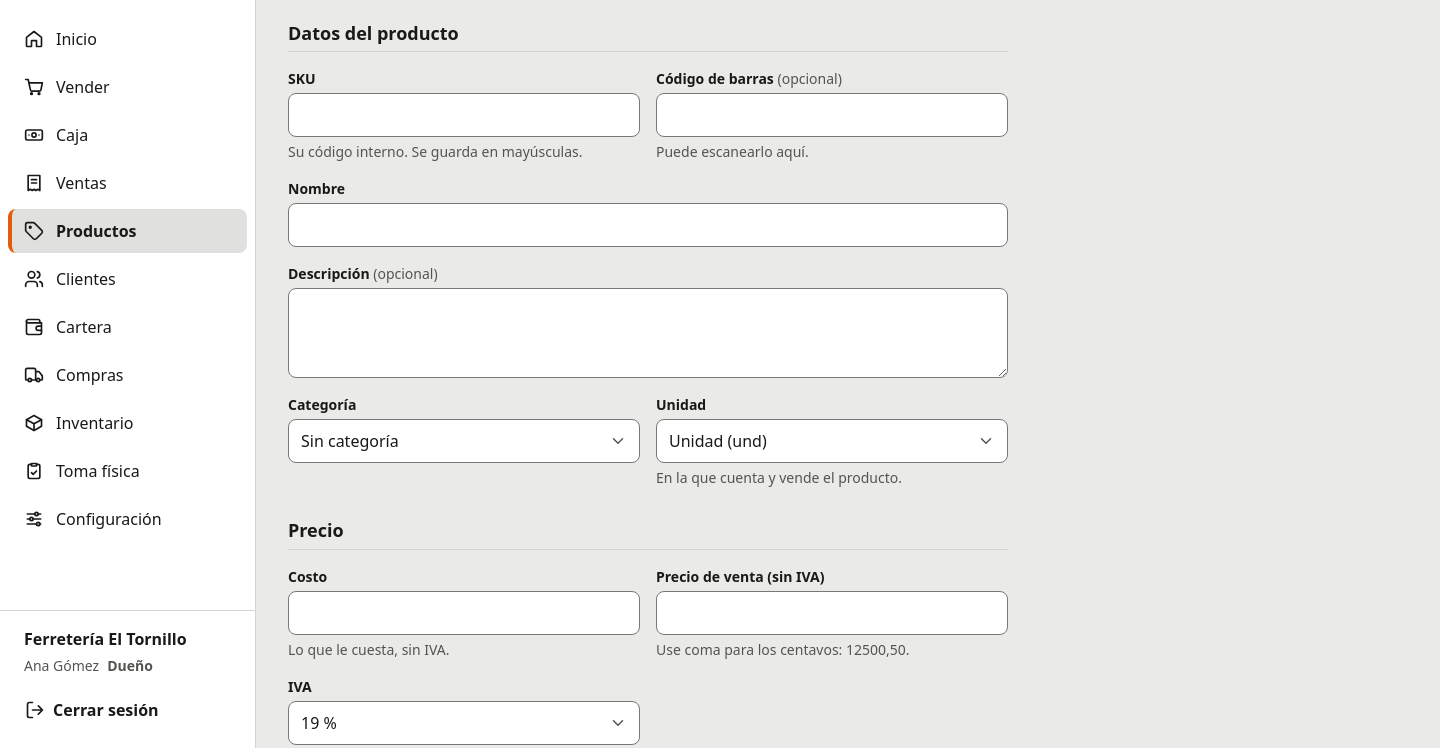
Test: ProductFormPage: precio con IVA y margen › muestra, mientras se escribe, lo que paga el cliente y el margen
Type "32000" into the field labelled "Precio de venta (sin IVA)". click: [832, 613]
box: [656,591,1008,635]
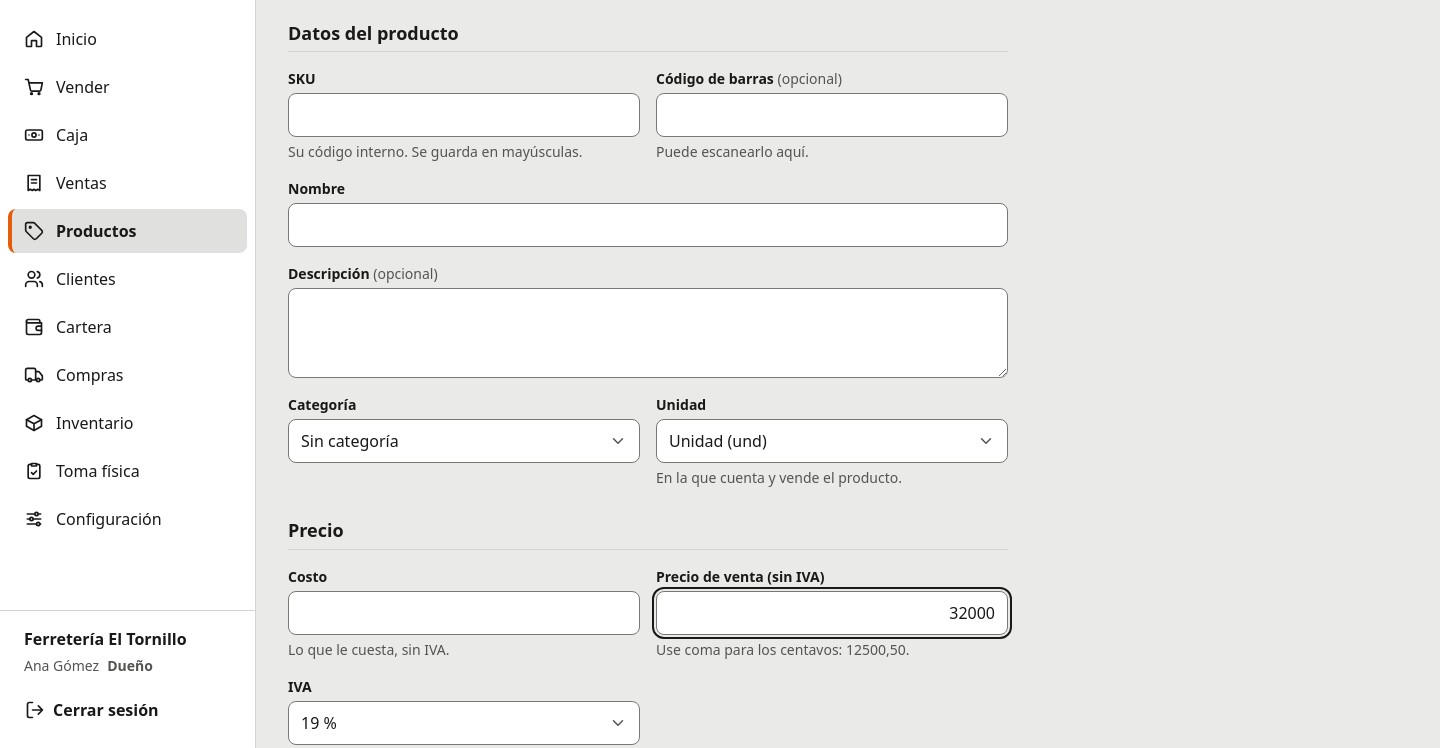
Type "28000" into the field labelled "Costo". click: [464, 613]
box: [288,591,640,635]
(page scrolled)
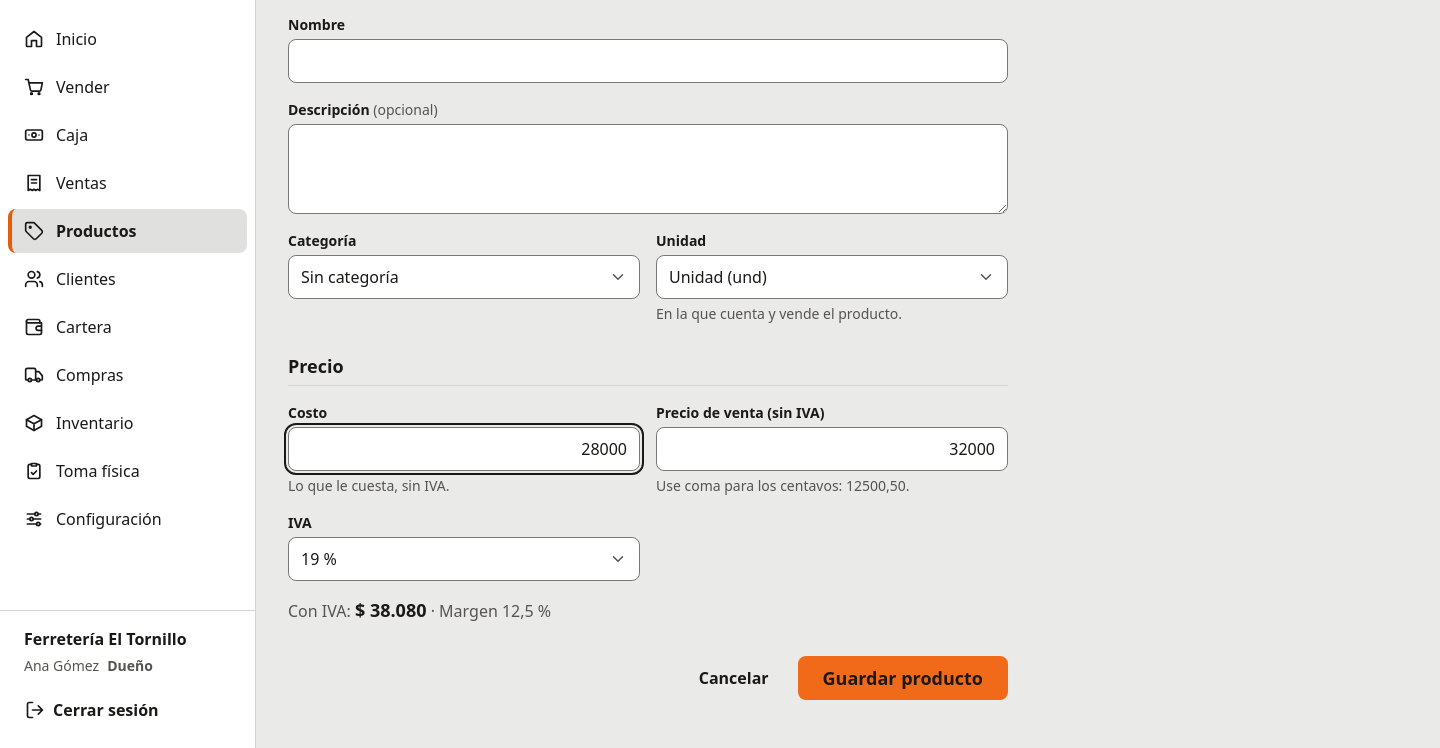
expect the element named "Con IVA y margen" reads "Con IVA: $ 38.080 · Margen 12,5 %": met, box [288,598,551,622]
